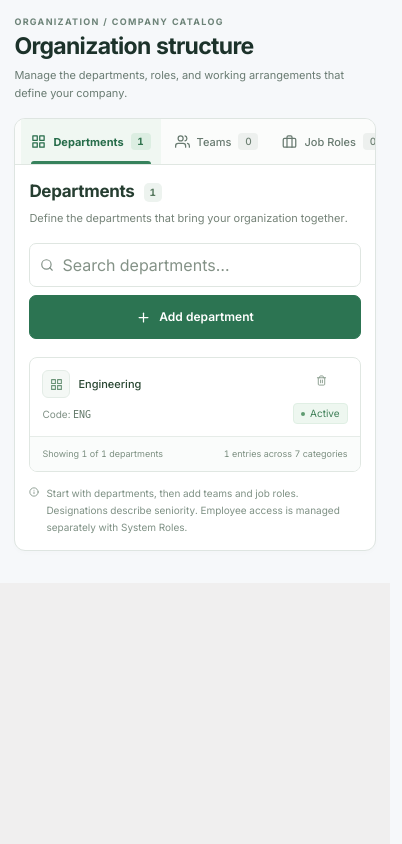
Test: Organization structure catalog › filters entries and clears the search
Step 1. Type "finance" into the field labelled "Search departments" → point(206, 266), box [62,244,350,286]
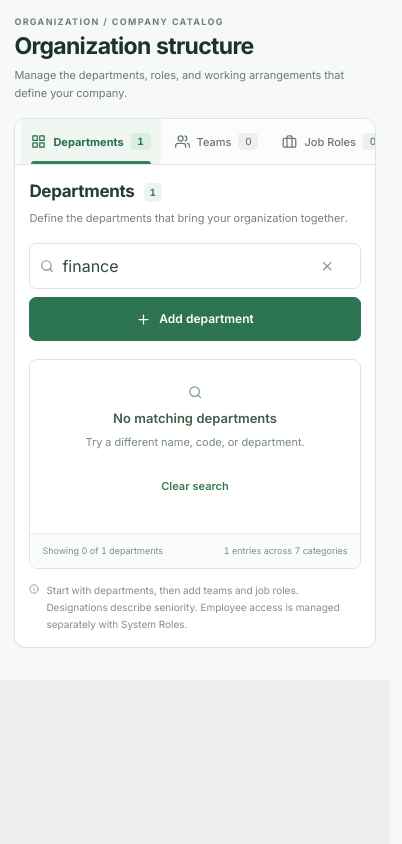
Check: the text "Engineering" is gone
Check: the heading "No matching departments" is shown, box [113,410,277,426]
Step 2. Click the button named "Clear search" → point(328, 266), box [306,244,350,288]
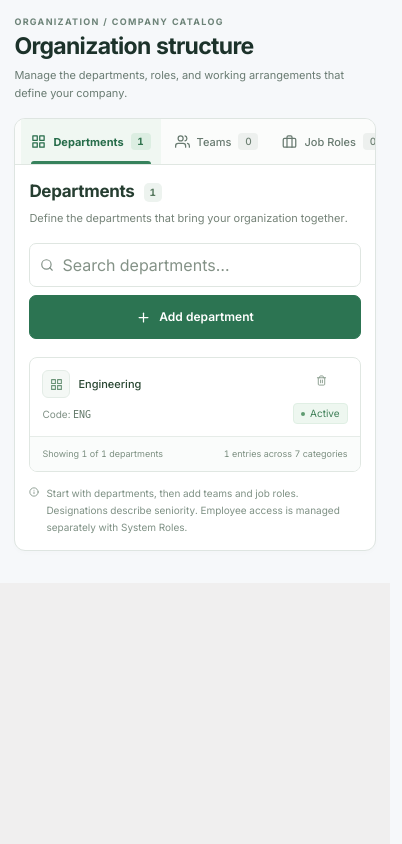
Check: the text "Engineering" is shown, box [78,377,141,391]
